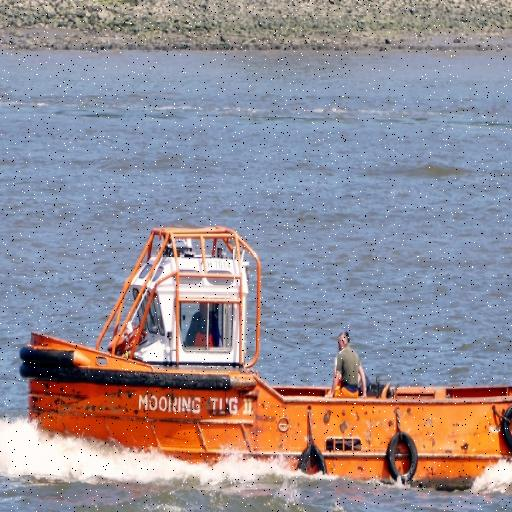tugboat: (19, 219, 512, 509)
